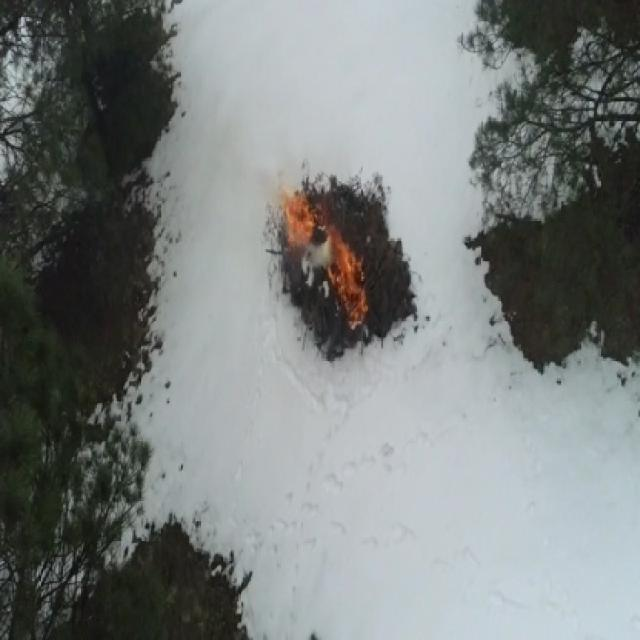Fire: (330, 227, 354, 291), (285, 194, 313, 245), (342, 288, 367, 322), (346, 255, 365, 282), (317, 200, 329, 227)
